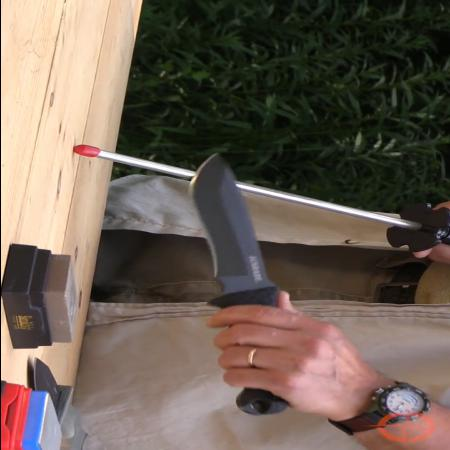long weapon: (178, 145, 298, 422)
